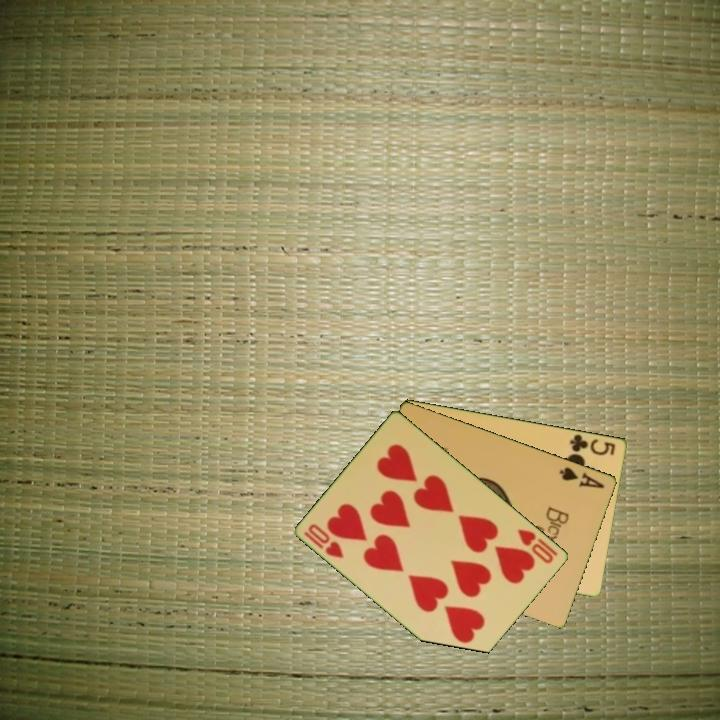10h: (514, 525, 561, 566), (301, 520, 348, 561)
5c: (566, 431, 619, 458)
As: (556, 463, 608, 491)
